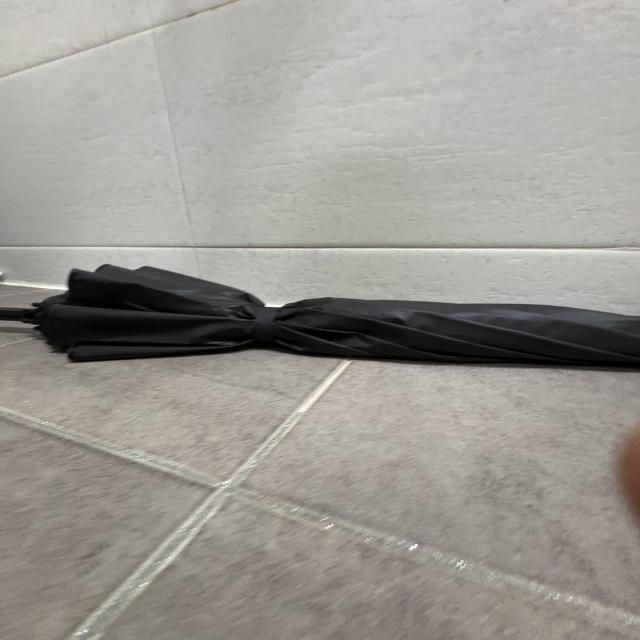umbrella: (0, 260, 640, 373)
